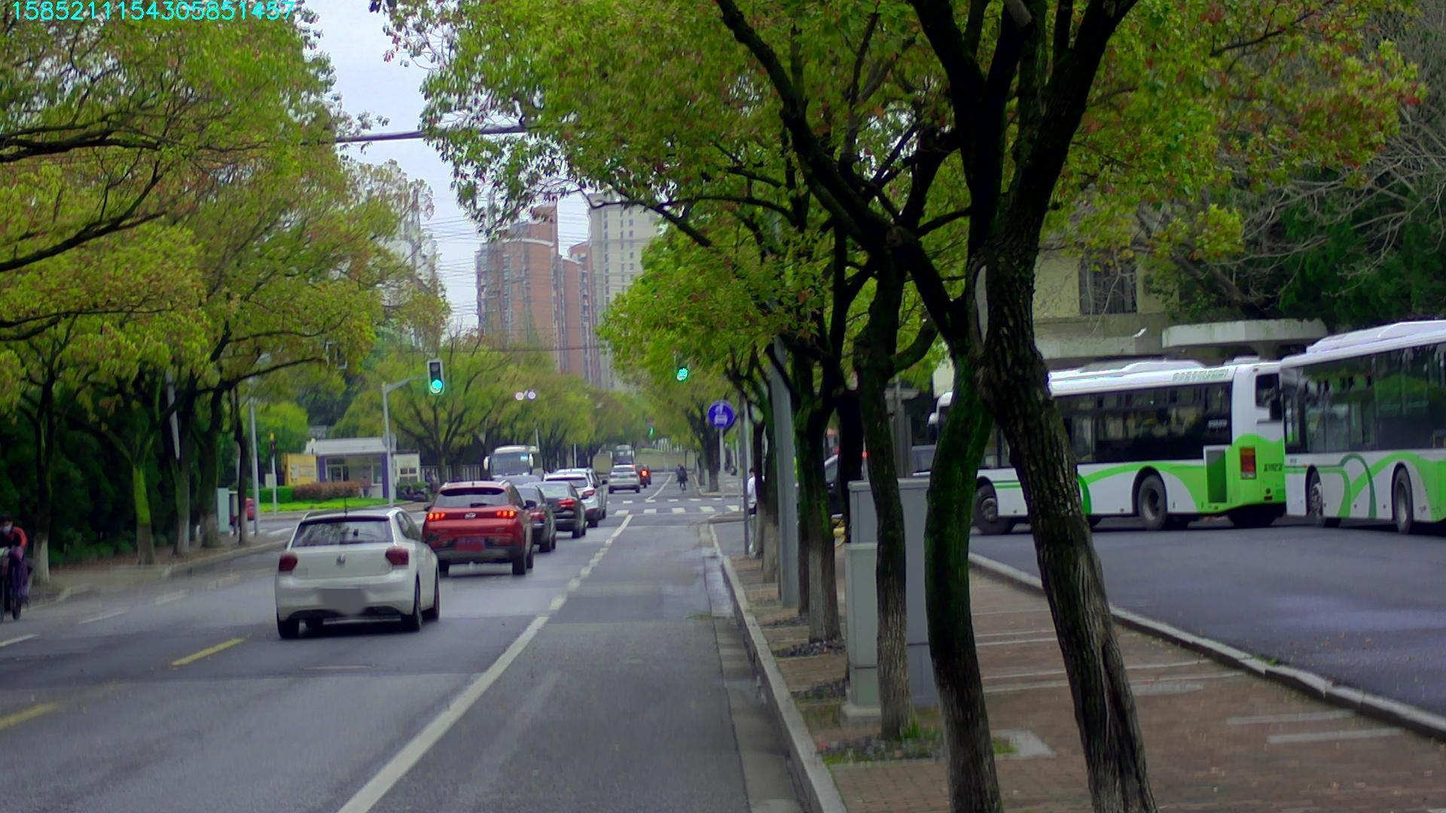green: (675, 345, 689, 380), (428, 361, 442, 394)
